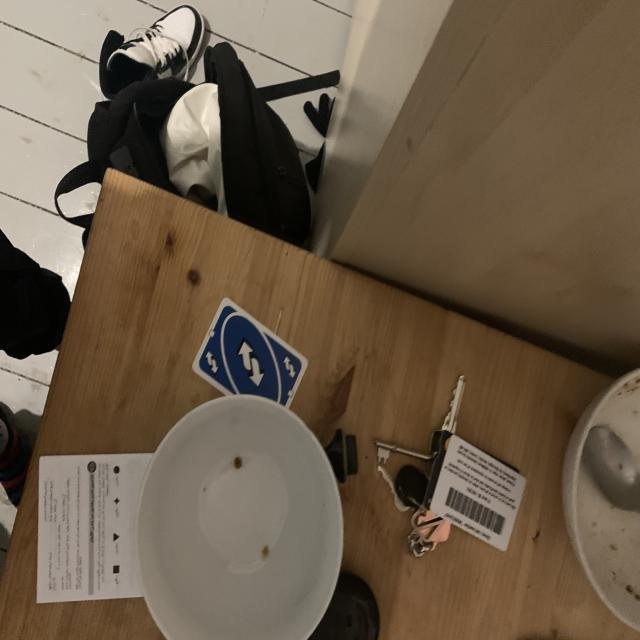lbluerevers-20: (204, 349, 222, 377)
